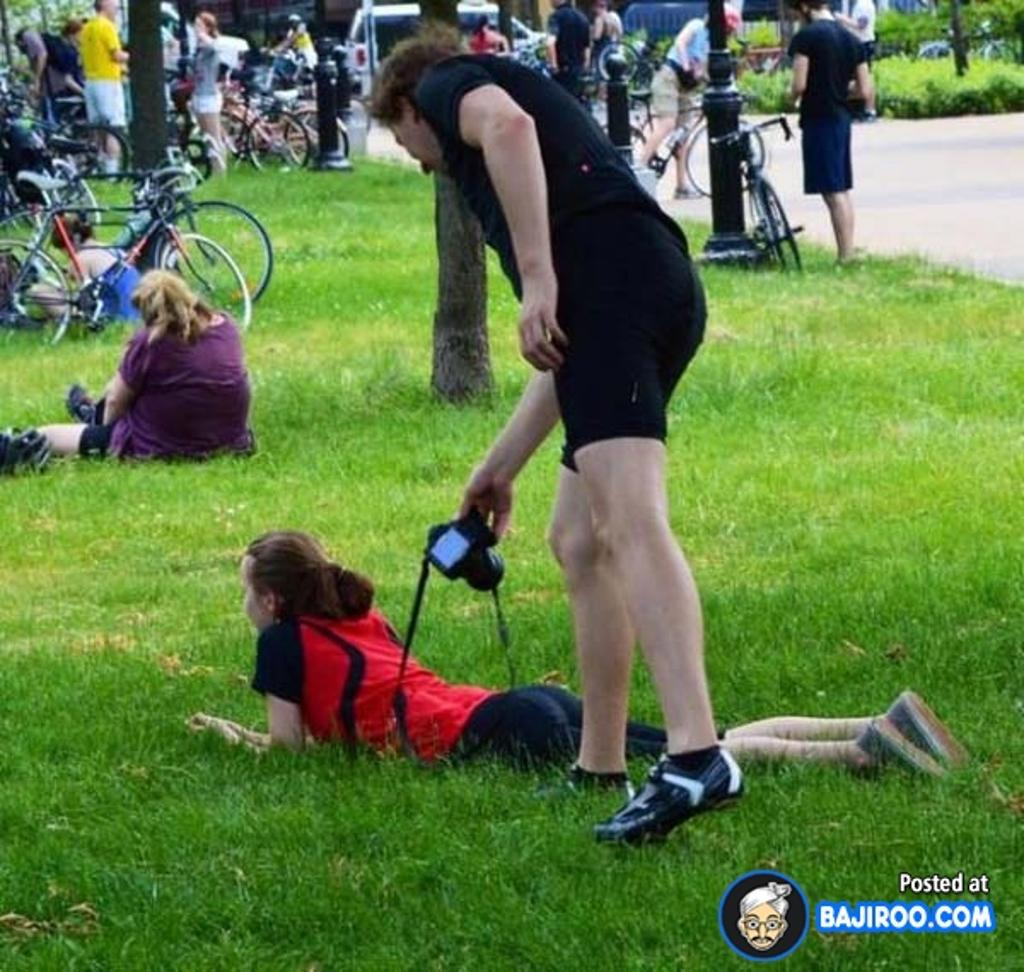face: (382, 104, 460, 182)
